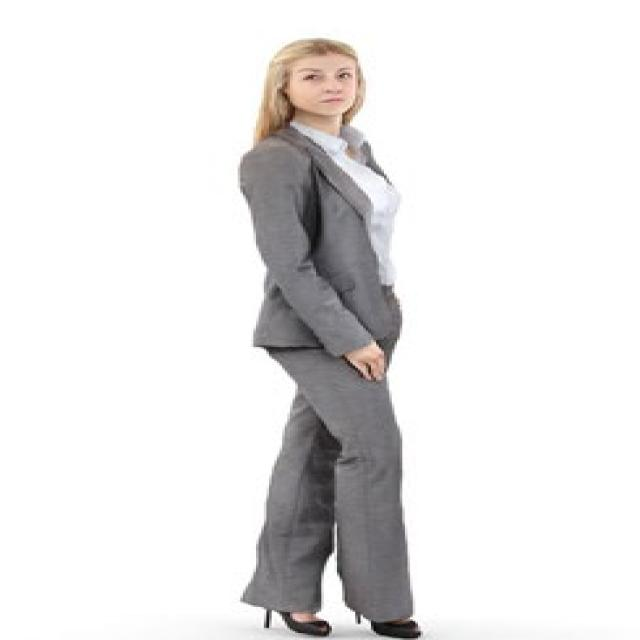standing: (231, 37, 427, 640)
